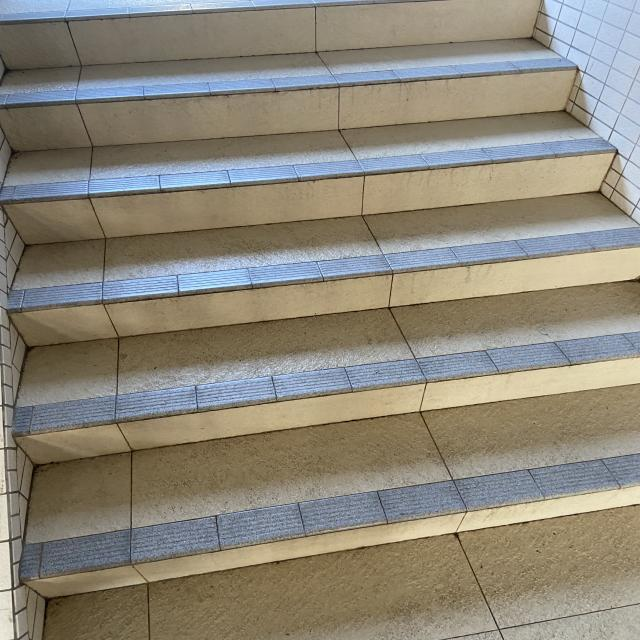Stairs: (0, 0, 640, 596)
